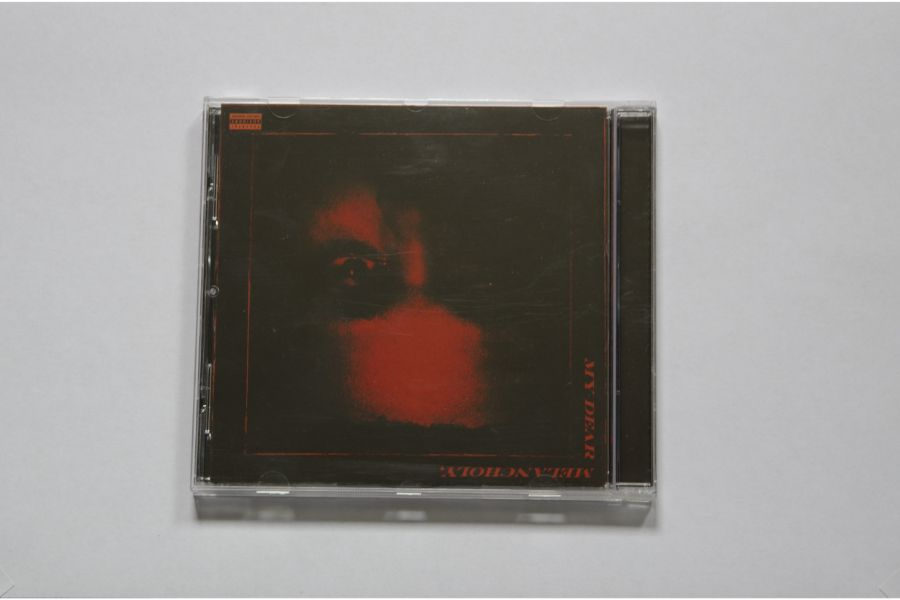album: (187, 89, 662, 511)
